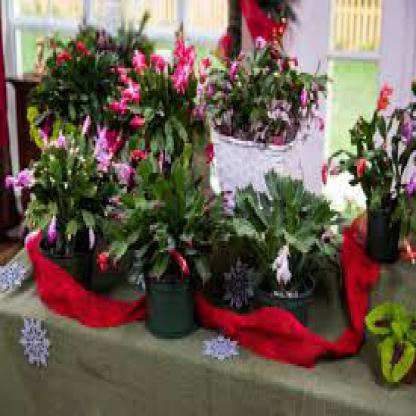Aglonema: (35, 87, 311, 414)
